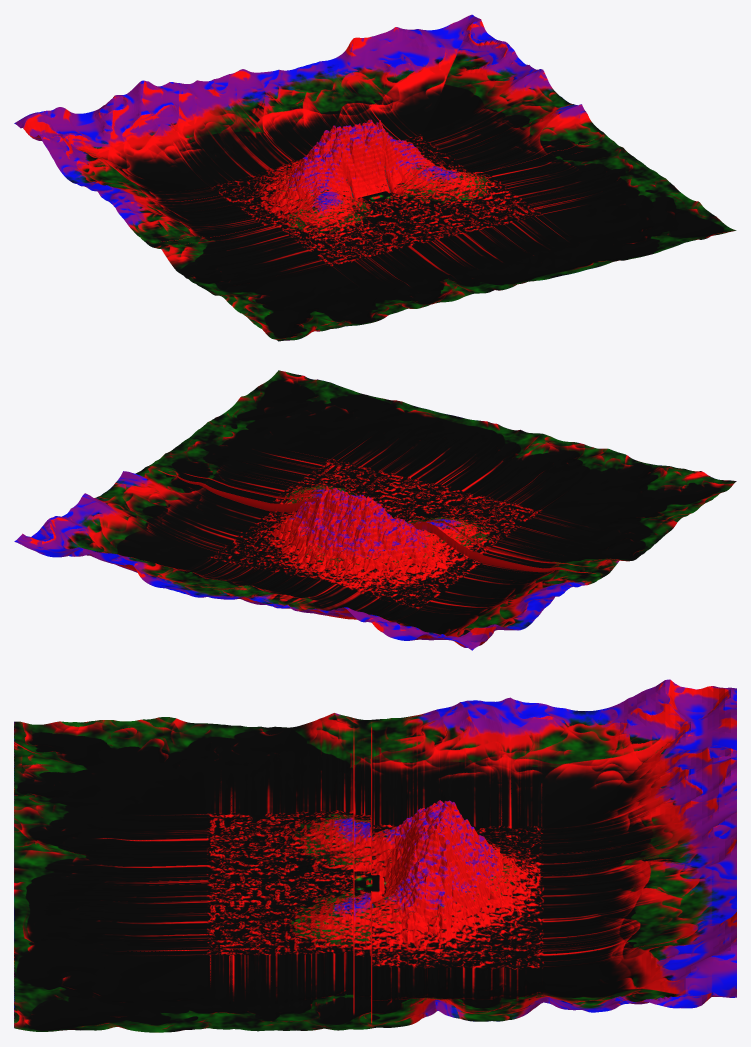
The model's file is ararat_terrain.glb.
3 renders of one model, top to bottom at view 1: azimuth 30°, elevation 25°; view 2: azimuth 150°, elevation 25°; view 3: azimuth 270°, elevation 25°, orthographic. The views are drawn at different scales.
Parts seen in each view (by area): view 1: Terrain_Ararat; view 2: Terrain_Ararat; view 3: Terrain_Ararat.
Boxes of the visible parts, box(x1,y1,x2,y2) form: Terrain_Ararat: box(14, 14, 736, 341); Terrain_Ararat: box(14, 370, 736, 650); Terrain_Ararat: box(14, 679, 736, 1032).
Size of the model in its own units: 3000 by 408 by 3000.
3 materials, 2 textured.
